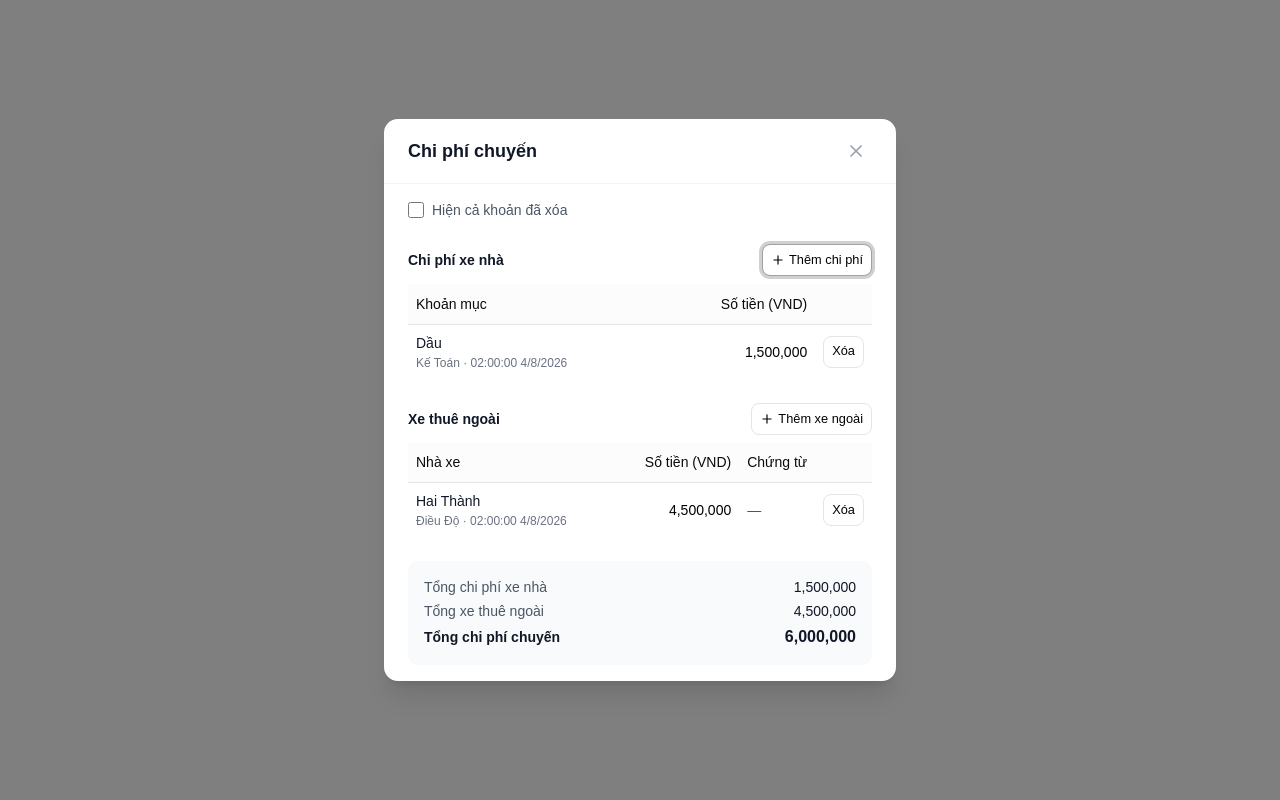
it: TripCostModal › what it shows › ★ the add form appears in place › ★ leaves focus on the button that opened the form, with every control reachable
Click the button "Thêm chi phí": (817,260) [762, 244, 872, 276]
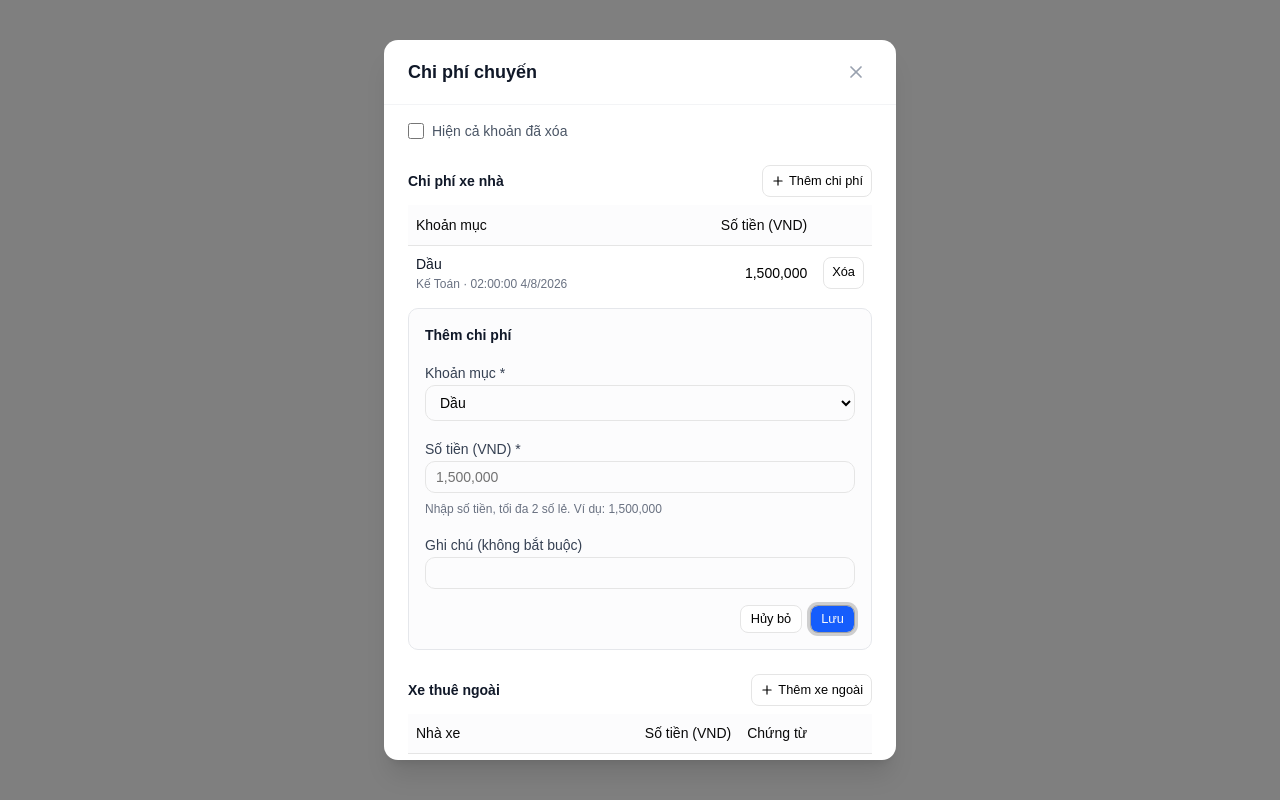
Now the dropdown labelled "Khoản mục *" is enabled, box [425, 384, 855, 420]
Now the field labelled "Số tiền (VND) *" is enabled, box [425, 460, 855, 492]
Now the button "Hủy bỏ" is enabled, box [740, 604, 802, 632]
